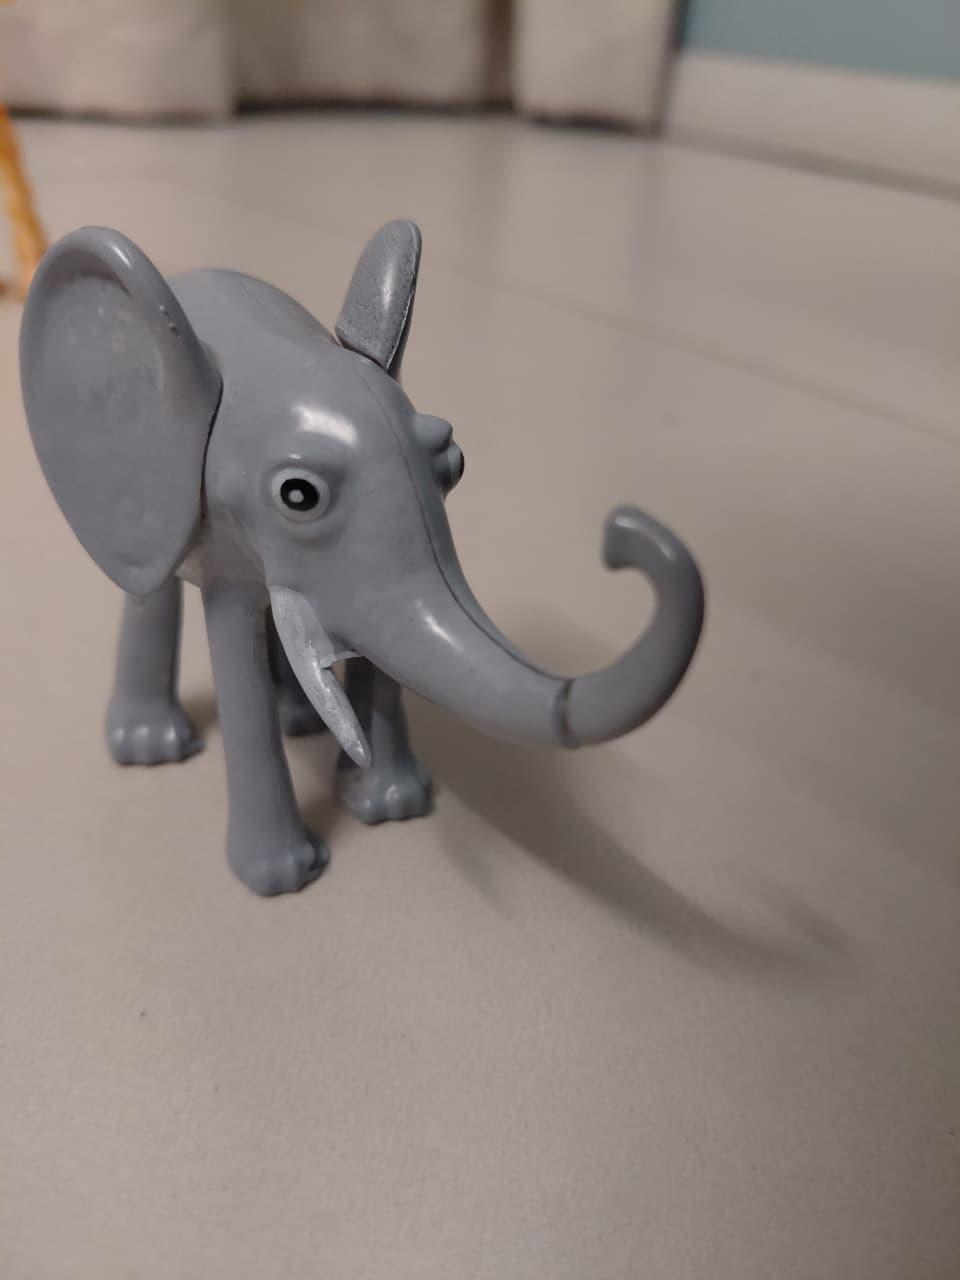elephant: (7, 155, 716, 954)
